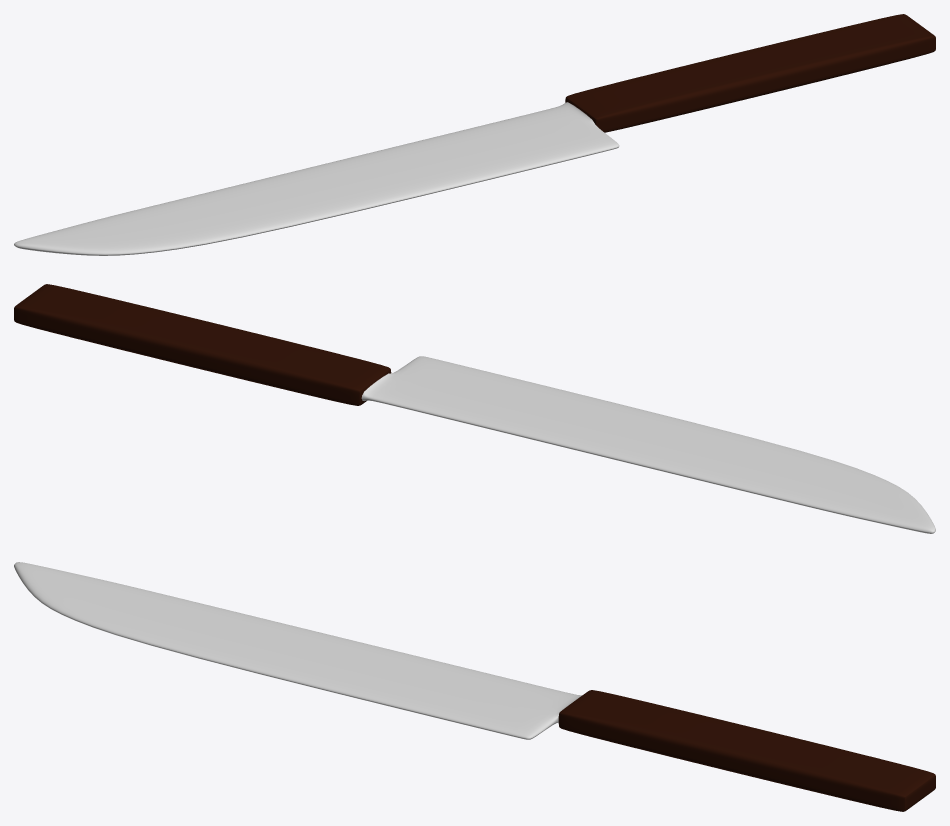
The model's file is Knife.fbx.
3 views of the same model, one above another, from view 1: azimuth 30°, elevation 25°; view 2: azimuth 150°, elevation 25°; view 3: azimuth 330°, elevation 25° (orthographic).
Visible parts, largest first — view 1: Knife; view 2: Knife; view 3: Knife.
Boxes of the visible parts, box(x1,y1,x2,y2) form: Knife: box(14, 14, 935, 255); Knife: box(14, 284, 935, 533); Knife: box(14, 562, 935, 811).
Size of the model in its own units: 41.55 by 0.8844 by 4.74.
